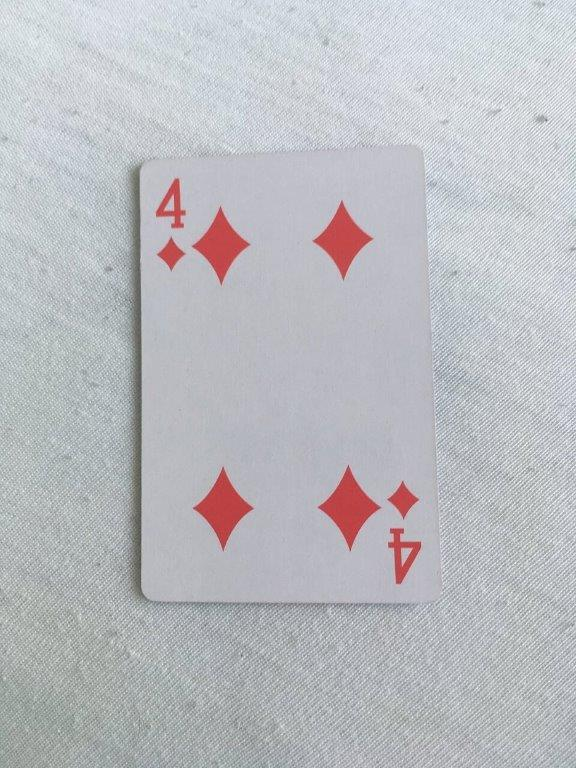4D: (136, 143, 444, 609)
